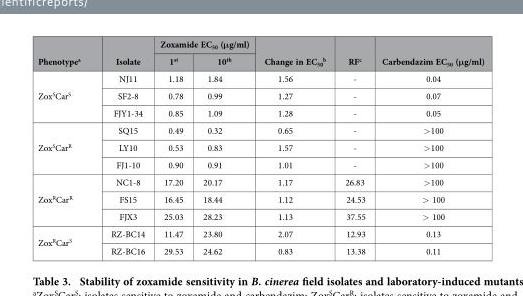table: (37, 37, 483, 256)
table column: (373, 37, 483, 256), (256, 37, 334, 256), (192, 37, 256, 256), (37, 37, 95, 256), (95, 37, 151, 256), (151, 37, 192, 256), (334, 37, 373, 256)
table column header: (37, 37, 483, 69)
table row: (37, 86, 483, 104), (37, 155, 483, 173), (37, 224, 483, 242), (37, 52, 483, 69), (37, 69, 483, 86), (37, 104, 483, 121), (37, 121, 483, 138), (37, 138, 483, 155), (37, 173, 483, 190), (37, 190, 483, 207), (37, 207, 483, 224), (37, 37, 483, 52), (37, 242, 483, 256)
table spanning cell: (373, 37, 483, 69), (37, 69, 95, 121), (37, 121, 95, 173), (37, 173, 95, 224), (256, 37, 334, 69), (37, 37, 95, 69), (37, 224, 95, 256), (95, 37, 151, 69), (151, 37, 256, 52), (334, 37, 373, 69)
